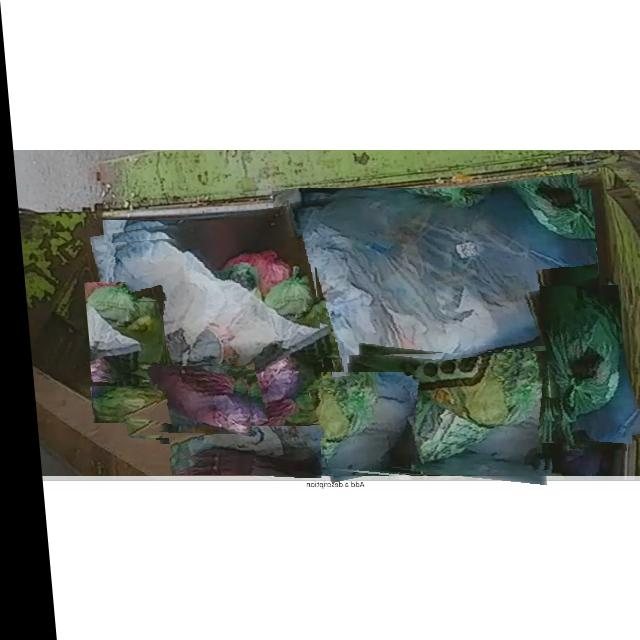general_trashbag: (340, 355, 540, 469), (536, 287, 612, 447), (82, 283, 155, 381), (85, 387, 155, 419)
other_trashbag: (294, 189, 591, 396), (106, 240, 314, 437), (320, 373, 405, 473), (141, 367, 242, 435), (163, 427, 311, 464), (121, 255, 177, 301)
